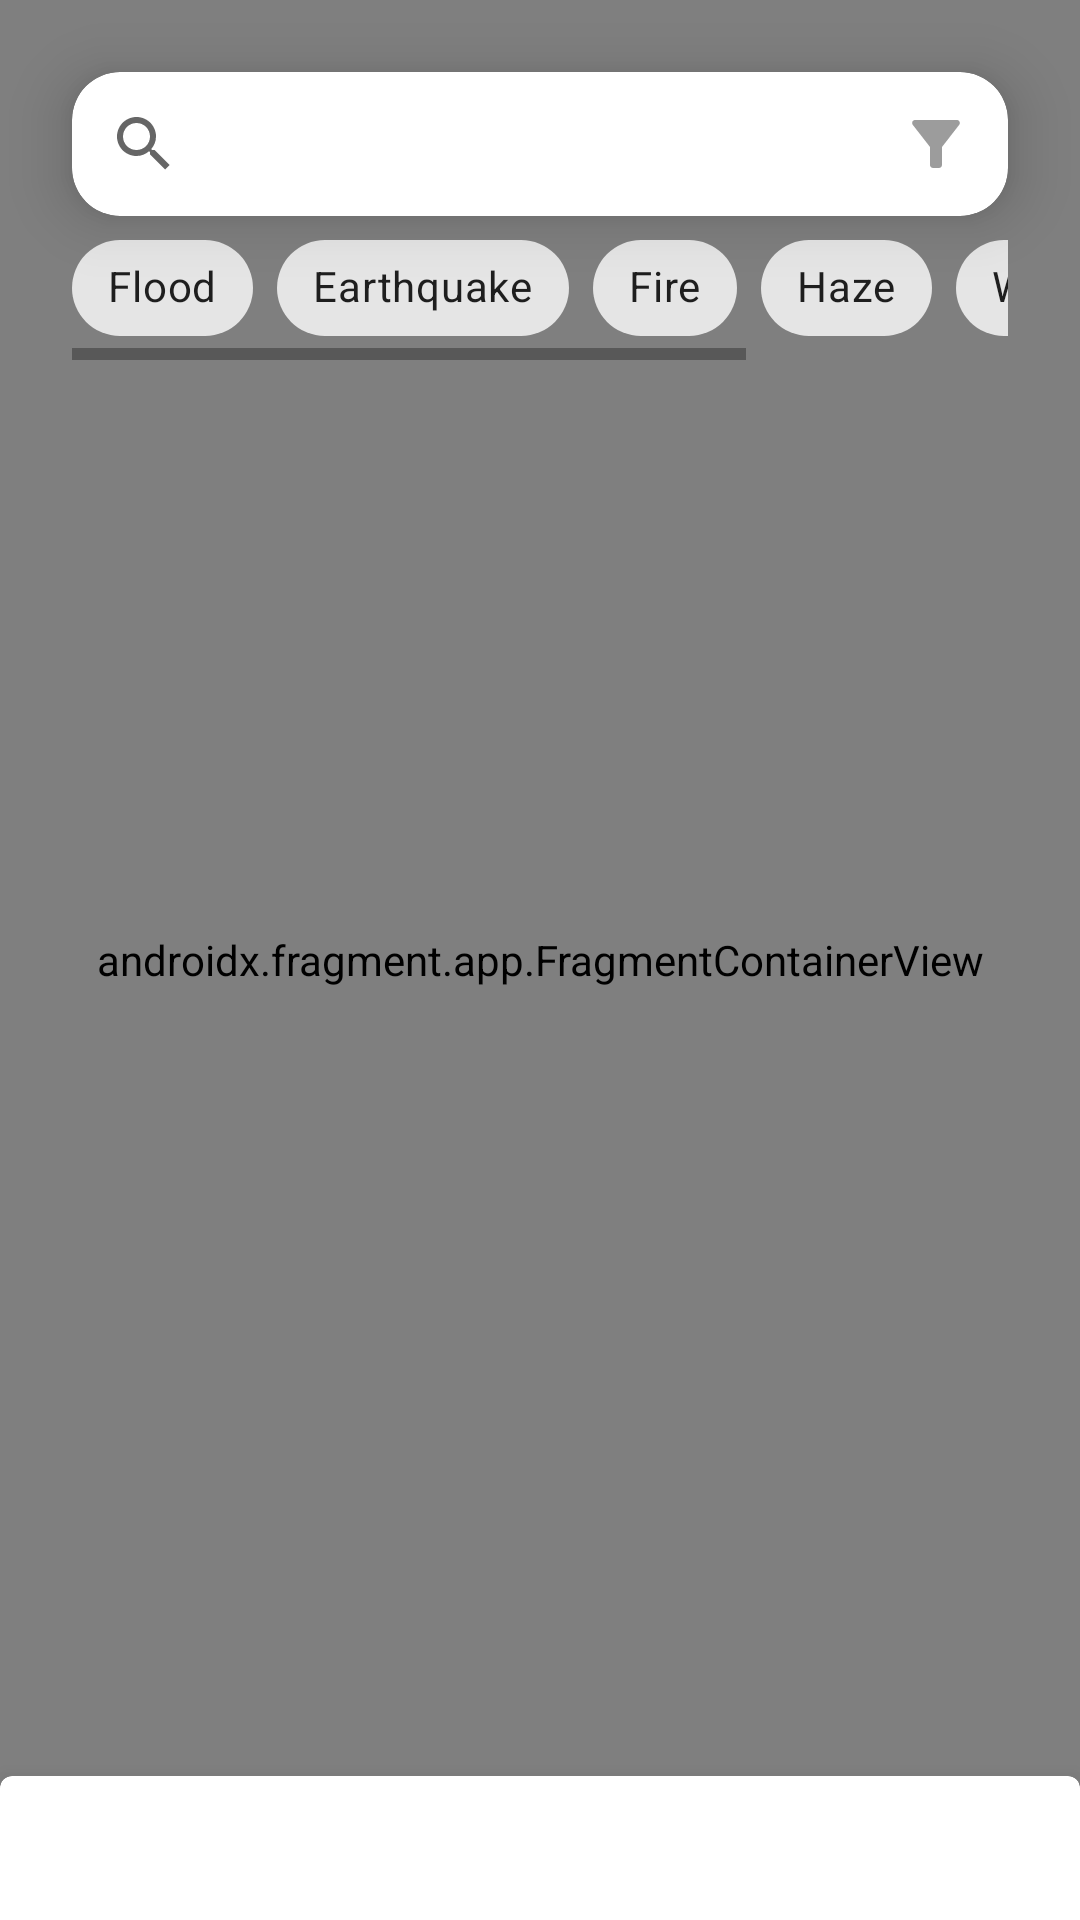

Named icons in this screenshot (1080px x 1920px) and their centers, [x,y]:
filter: [936,144]
